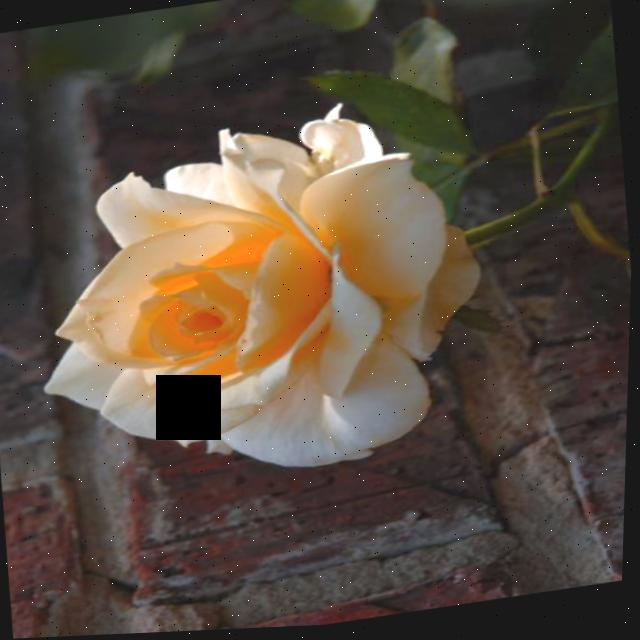rose: (10, 81, 543, 514)
